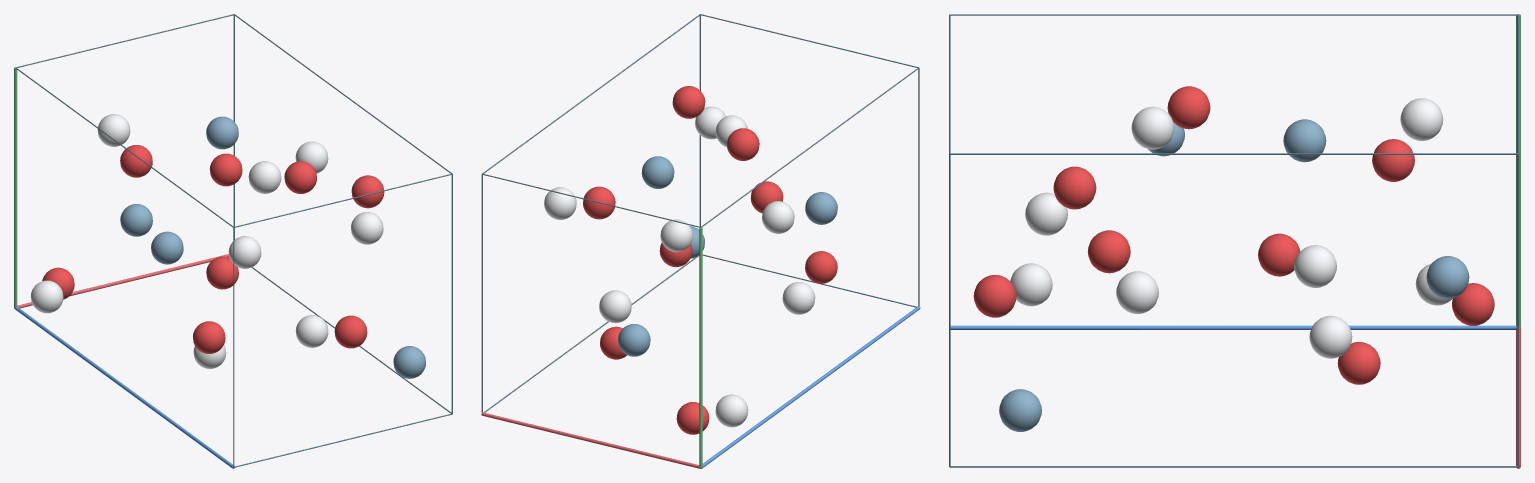
The model's file is chat-zinc-hydroxide-epsilon.glb.
The picture shows the model from 3 angles, left to right: view 1: azimuth 30°, elevation 25°; view 2: azimuth 150°, elevation 25°; view 3: azimuth 270°, elevation 25°; orthographic projection. The views are drawn at different scales.
Visible parts, largest first — view 1: Ô mạng và các trục a, b, c, Zn · Zn · 1 (×4), O2 · O · 1 (×4), H1 · H · 1 (×4), O1 · O · 1 (×4), H2 · H · 1 (×4); view 2: Ô mạng và các trục a, b, c, H2 · H · 1 (×4), O1 · O · 1 (×4), H1 · H · 1 (×4), O2 · O · 1 (×4), Zn · Zn · 1 (×3); view 3: Ô mạng và các trục a, b, c, H2 · H · 1 (×4), O2 · O · 1 (×4), O1 · O · 1 (×4), Zn · Zn · 1 (×3), H1 · H · 1 (×3).
Part boxes in pixels (x1,y1,x2,y2): Ô mạng và các trục a, b, c: [14, 14, 452, 468]; Zn · Zn · 1 (×4): [120, 116, 425, 378]; O2 · O · 1 (×4): [120, 145, 384, 353]; H1 · H · 1 (×4): [30, 141, 328, 347]; O1 · O · 1 (×4): [42, 153, 367, 348]; H2 · H · 1 (×4): [97, 114, 383, 368]; Ô mạng và các trục a, b, c: [481, 14, 920, 468]; H2 · H · 1 (×4): [599, 106, 815, 323]; O1 · O · 1 (×4): [583, 128, 783, 434]; H1 · H · 1 (×4): [544, 115, 794, 427]; O2 · O · 1 (×4): [600, 86, 837, 359]; Zn · Zn · 1 (×3): [618, 156, 837, 356]; Ô mạng và các trục a, b, c: [949, 14, 1520, 468]; H2 · H · 1 (×4): [1025, 98, 1443, 358]; O2 · O · 1 (×4): [1053, 139, 1414, 384]; O1 · O · 1 (×4): [973, 86, 1494, 325]; Zn · Zn · 1 (×3): [999, 119, 1469, 431]; H1 · H · 1 (×3): [1010, 106, 1336, 306].
Bounding box in the file's own units: 5.54 × 5.19 × 8.52.
